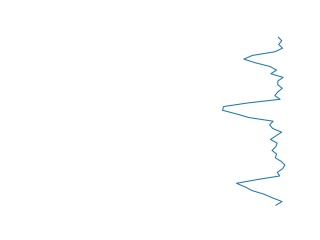underwaterNaturalLevee: (219, 36, 289, 209)
